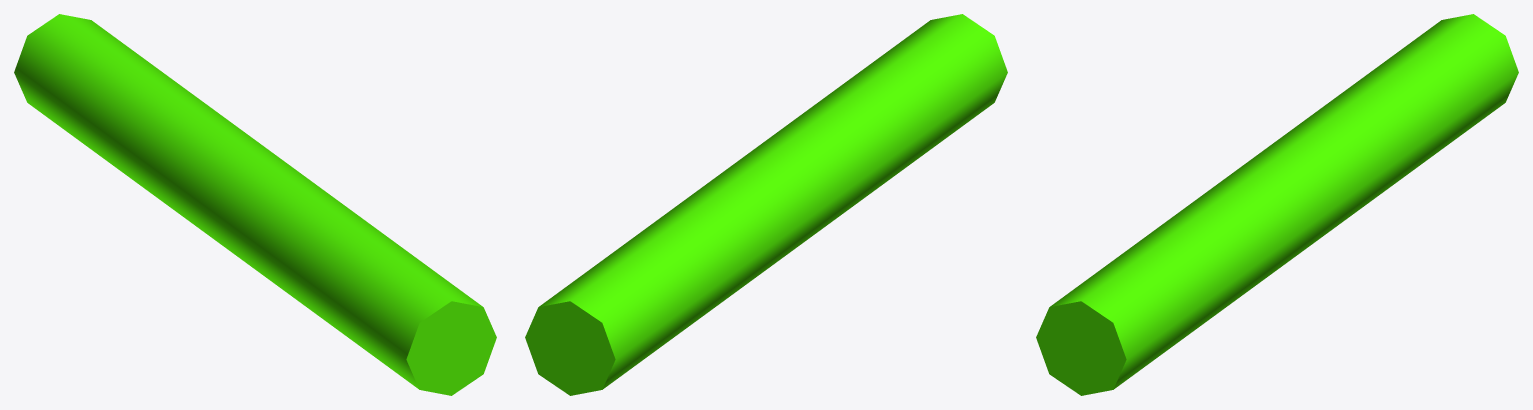
File: player_laser.obj
3 views of the same model, side by side, from view 1: azimuth 30°, elevation 25°; view 2: azimuth 150°, elevation 25°; view 3: azimuth 330°, elevation 25° (orthographic).
Parts seen in each view (by area): view 1: Cylinder004; view 2: Cylinder004; view 3: Cylinder004.
Part boxes in pixels (left/top/right/bottom): Cylinder004: left=14, top=14, right=496, bottom=395; Cylinder004: left=525, top=14, right=1007, bottom=395; Cylinder004: left=1036, top=14, right=1518, bottom=395.
Bounding box in the file's own units: 2 × 2 × 15.
